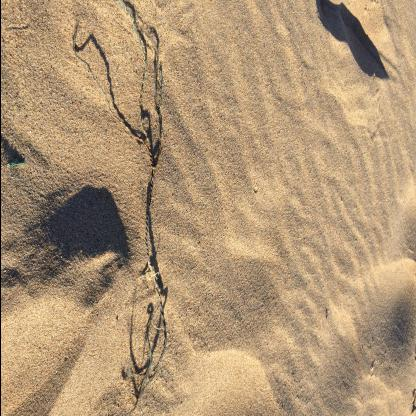diger: (126, 119, 168, 380)
